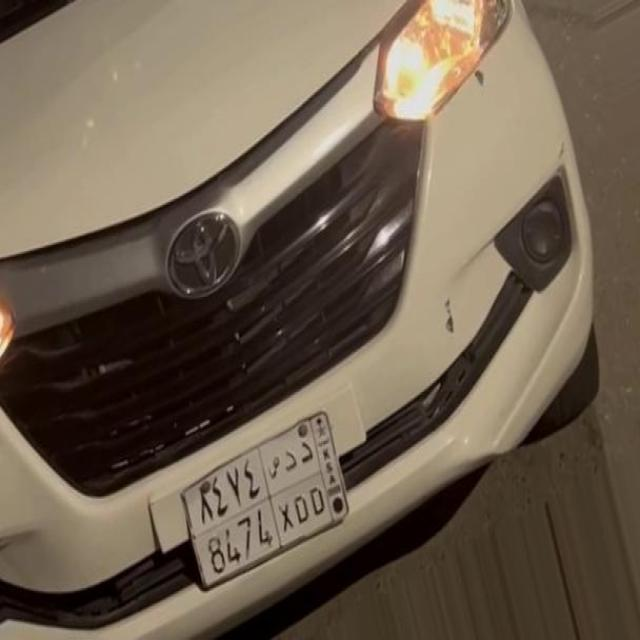Car-plate: (159, 378, 377, 617)
